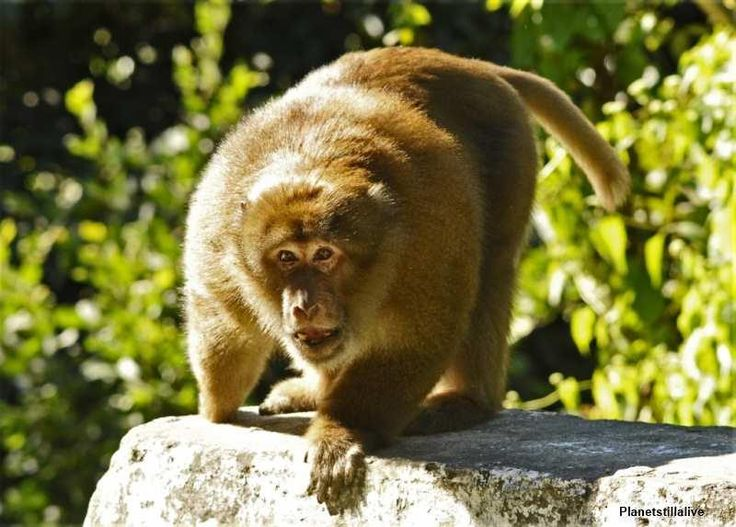monkey: (153, 31, 654, 515)
